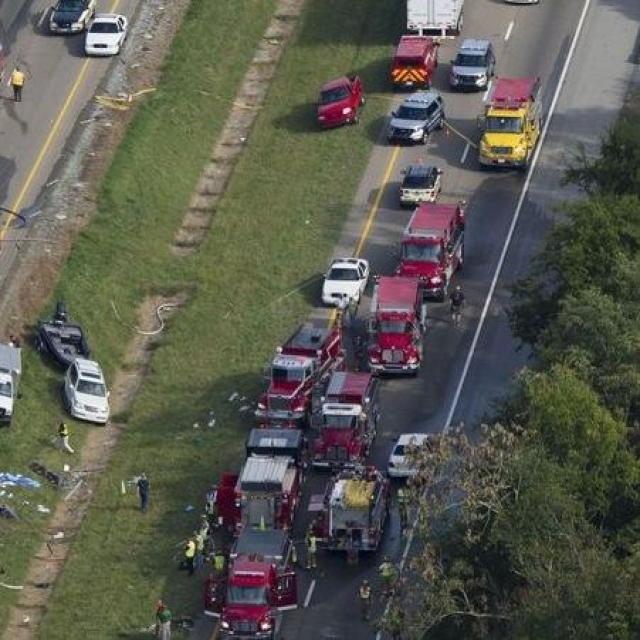traffic_incident: (0, 303, 121, 536)
